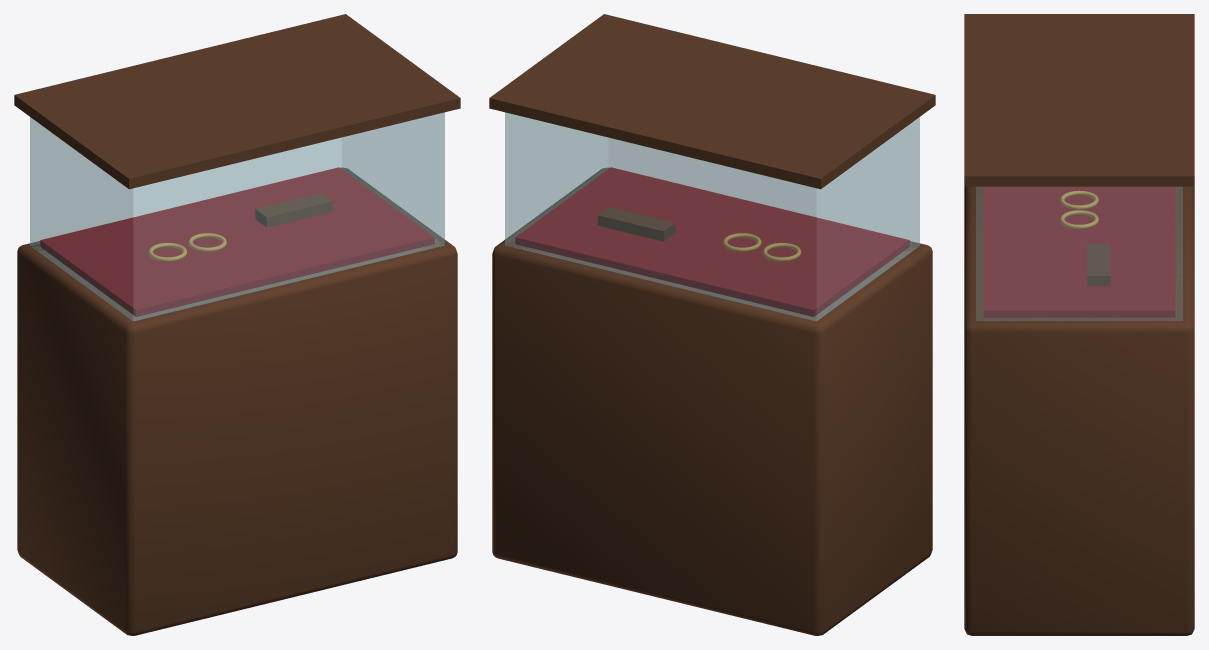
Rendered from display_case.gltf.
3 renders of one model, left to right at view 1: azimuth 30°, elevation 25°; view 2: azimuth 150°, elevation 25°; view 3: azimuth 270°, elevation 25°, orthographic.
Visible parts, largest first — view 1: display_case_mesh; view 2: display_case_mesh; view 3: display_case_mesh.
Part boxes in pixels (bbox=[...]): display_case_mesh: bbox=[14, 14, 460, 635]; display_case_mesh: bbox=[489, 14, 935, 635]; display_case_mesh: bbox=[964, 14, 1194, 635].
Bounding box in the file's own units: 1 × 1.33 × 0.6.
